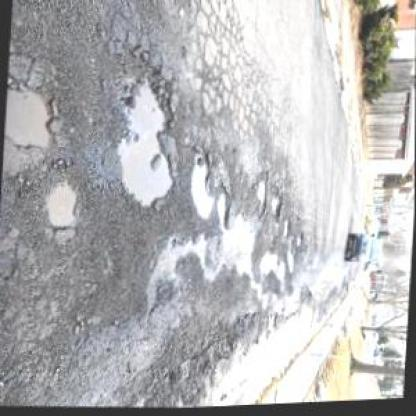pothole: (114, 75, 182, 213), (3, 85, 61, 157), (189, 152, 219, 224), (46, 180, 82, 232), (255, 176, 271, 214), (218, 194, 230, 230), (269, 194, 284, 221), (282, 220, 292, 242)
